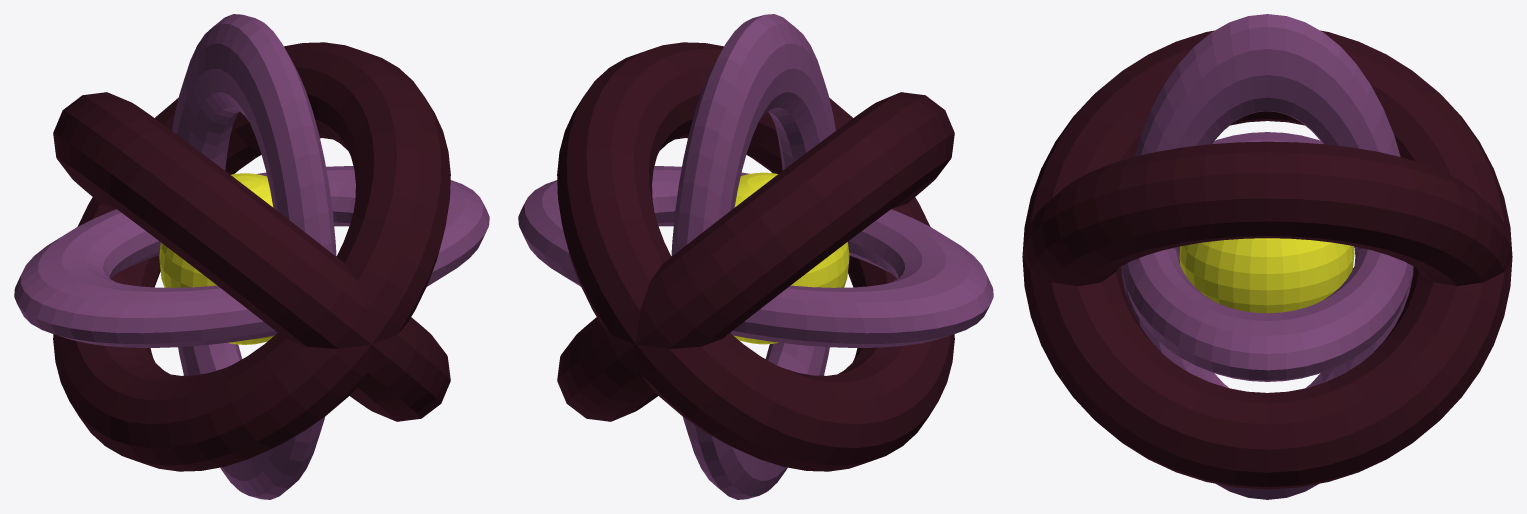
The picture shows the model from 3 angles, left to right: view 1: azimuth 30°, elevation 25°; view 2: azimuth 150°, elevation 25°; view 3: azimuth 270°, elevation 25°; orthographic projection. The views are drawn at different scales.
Parts seen in each view (by area): view 1: Torus, Torus.001, Torus.003, Torus.002, Sphere Padre; view 2: Torus, Torus.001, Torus.003, Torus.002, Sphere Padre; view 3: Torus.001, Torus, Torus.003, Torus.002, Sphere Padre.
Part boxes in pixels (x1,y1,x2,y2): Torus: (53, 42, 450, 471); Torus.001: (53, 92, 450, 421); Torus.003: (172, 14, 336, 499); Torus.002: (14, 166, 489, 347); Sphere Padre: (159, 173, 274, 344); Torus: (557, 42, 954, 471); Torus.001: (557, 92, 954, 421); Torus.003: (671, 14, 835, 499); Torus.002: (518, 166, 993, 347); Sphere Padre: (733, 172, 849, 344); Torus.001: (1022, 30, 1512, 489); Torus: (1022, 141, 1512, 286); Torus.003: (1121, 14, 1413, 499); Torus.002: (1122, 132, 1412, 381); Sphere Padre: (1179, 238, 1354, 313).
Size of the model in its own units: 8.14 by 8.14 by 7.44.
